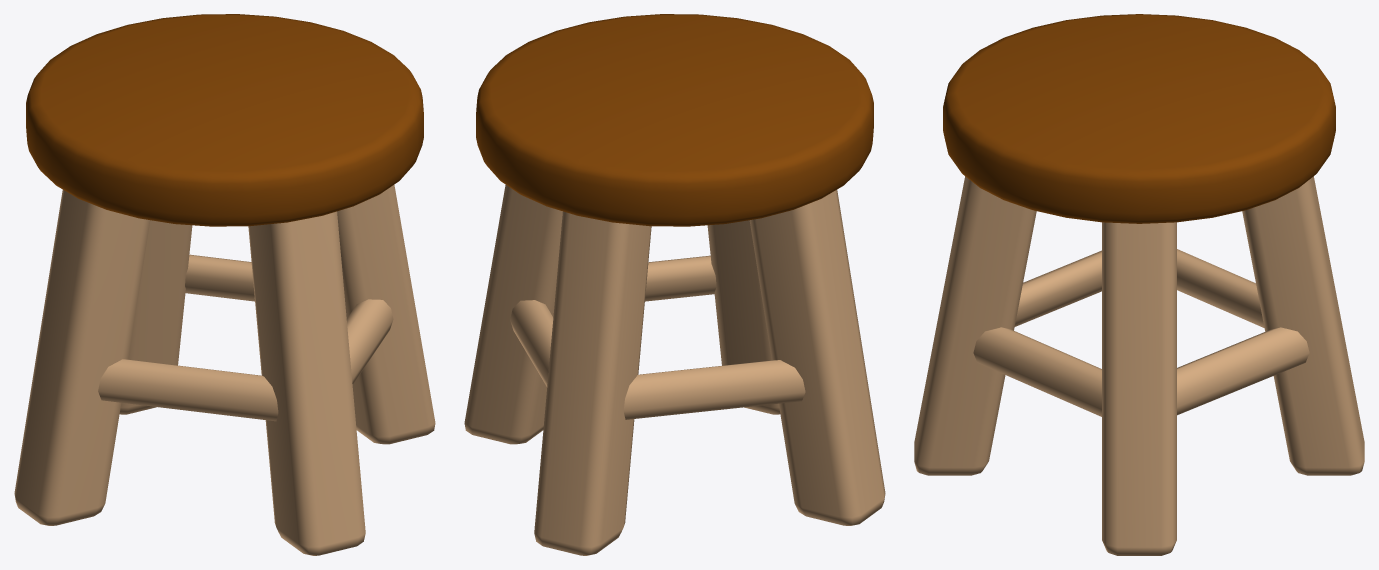
The model's file is SM_stool.glb.
3 views of the same model, side by side, from view 1: azimuth 30°, elevation 25°; view 2: azimuth 150°, elevation 25°; view 3: azimuth 270°, elevation 25° (orthographic).
Parts seen in each view (by area): view 1: SM_stool; view 2: SM_stool; view 3: SM_stool.
Part boxes in pixels (x1,y1,x2,y2): SM_stool: [14, 14, 435, 555]; SM_stool: [464, 14, 885, 555]; SM_stool: [914, 14, 1364, 555].
Size of the model in its own units: 0.6024 by 0.5511 by 0.6024.
1 material, 1 textured.
